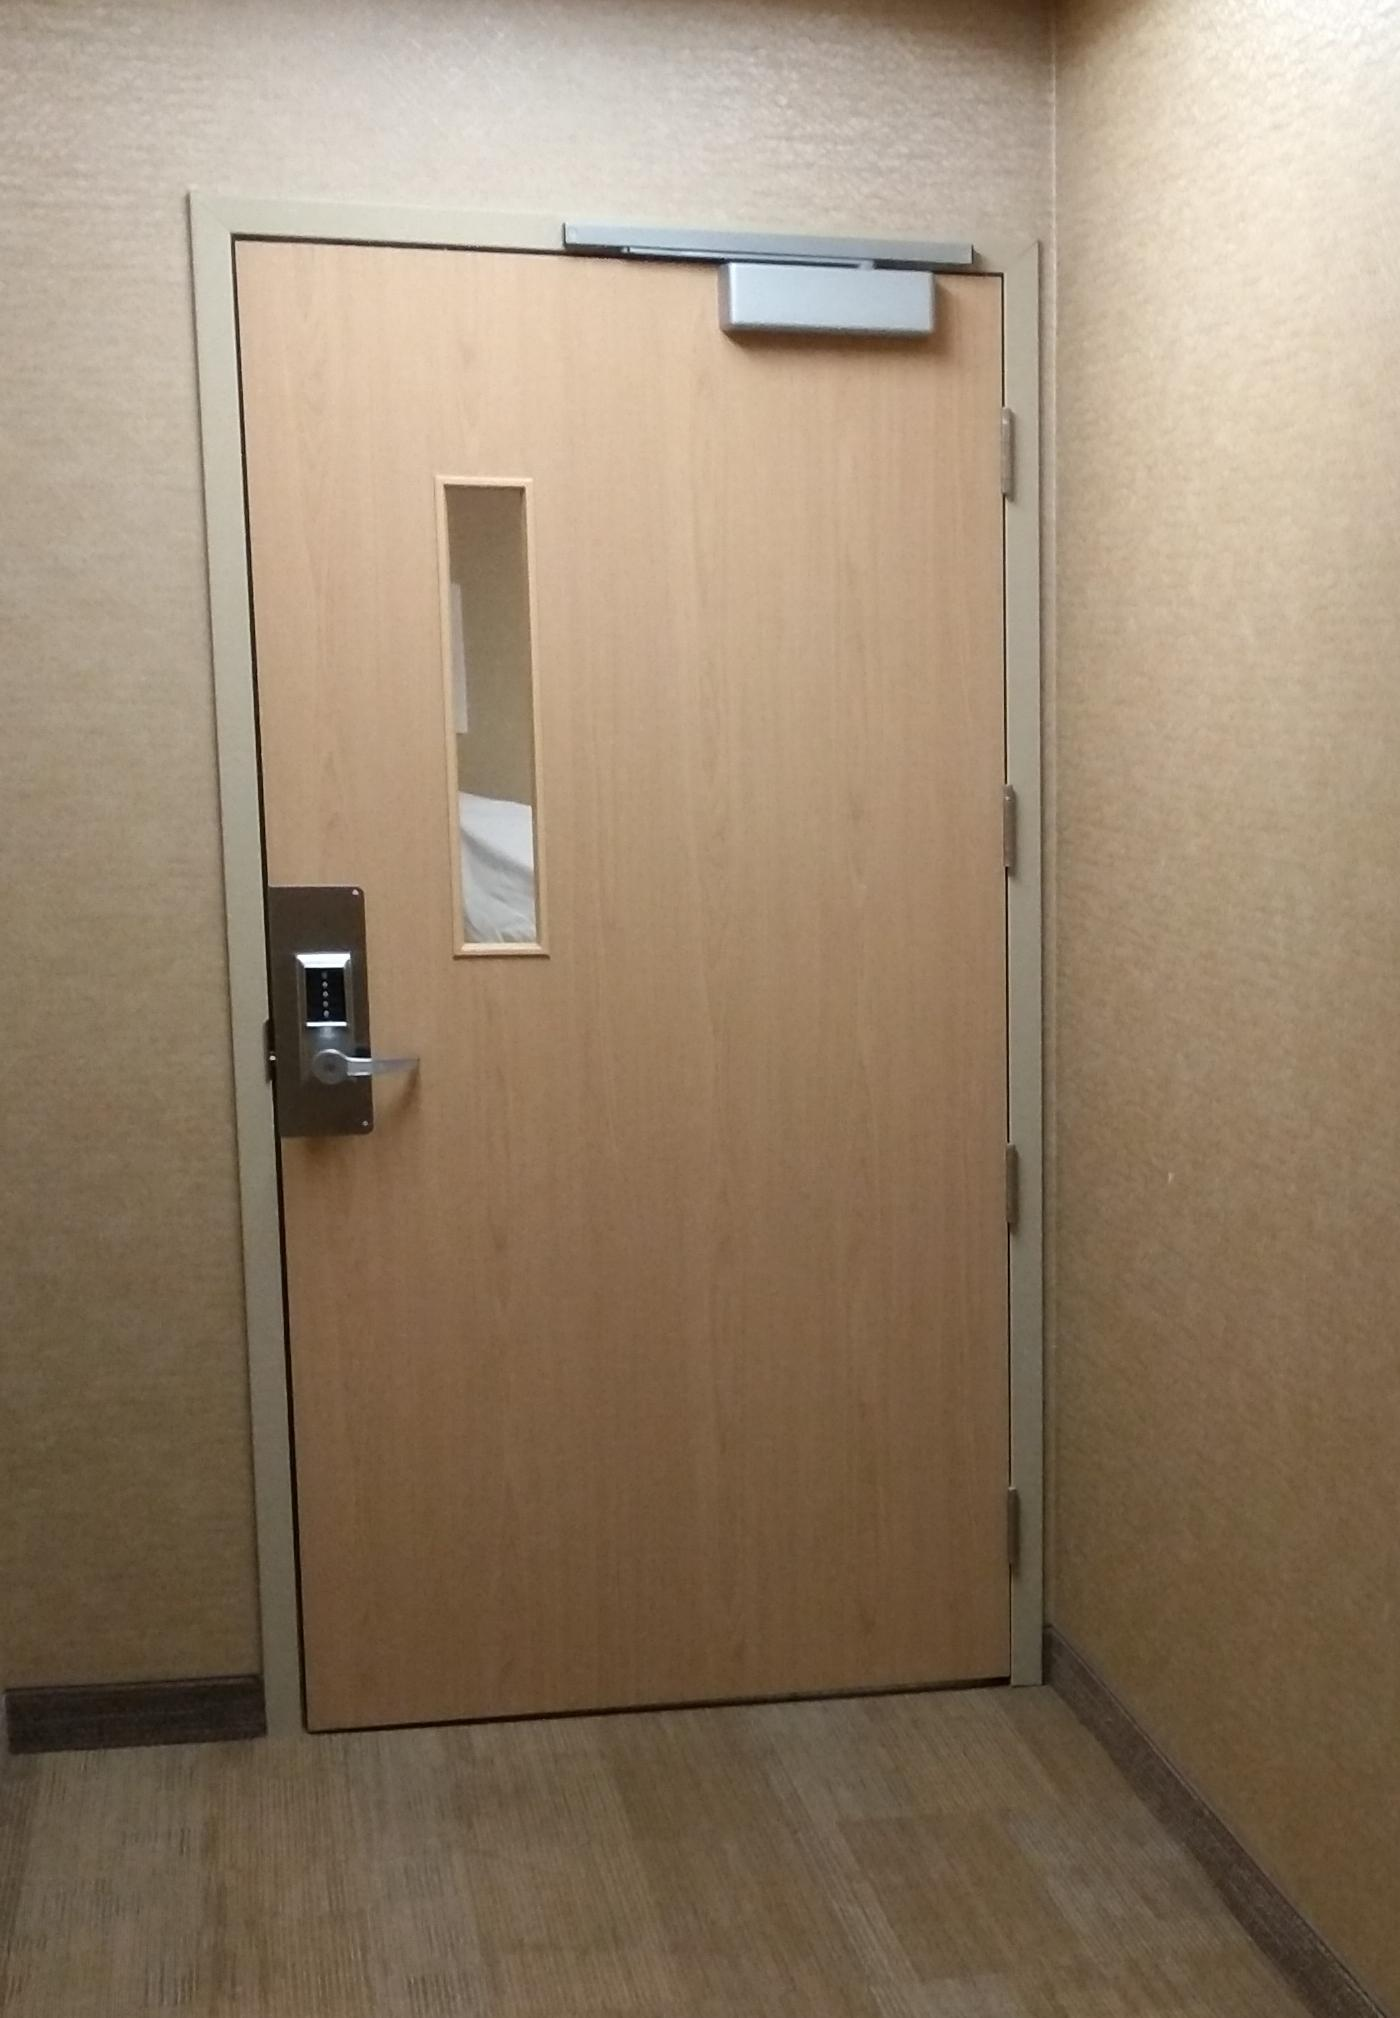door: (189, 196, 1073, 1721)
